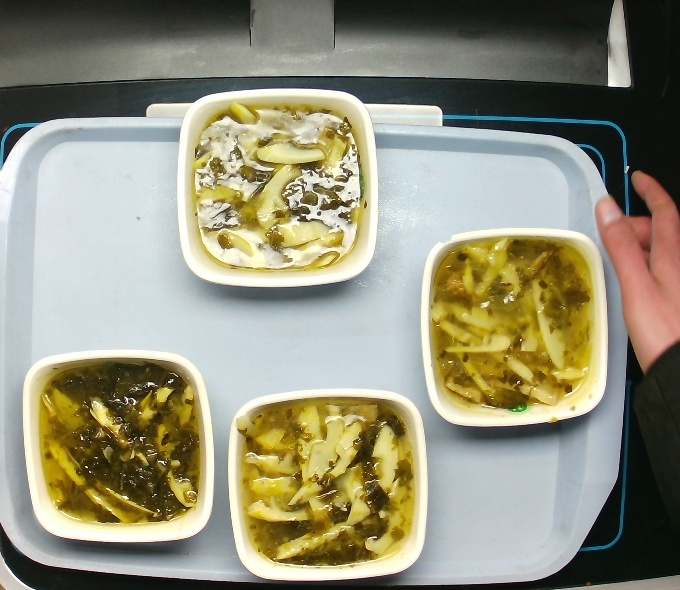wcq-DongSunTang: (237, 396, 419, 568), (427, 233, 601, 412), (193, 102, 366, 272), (37, 359, 204, 525)
